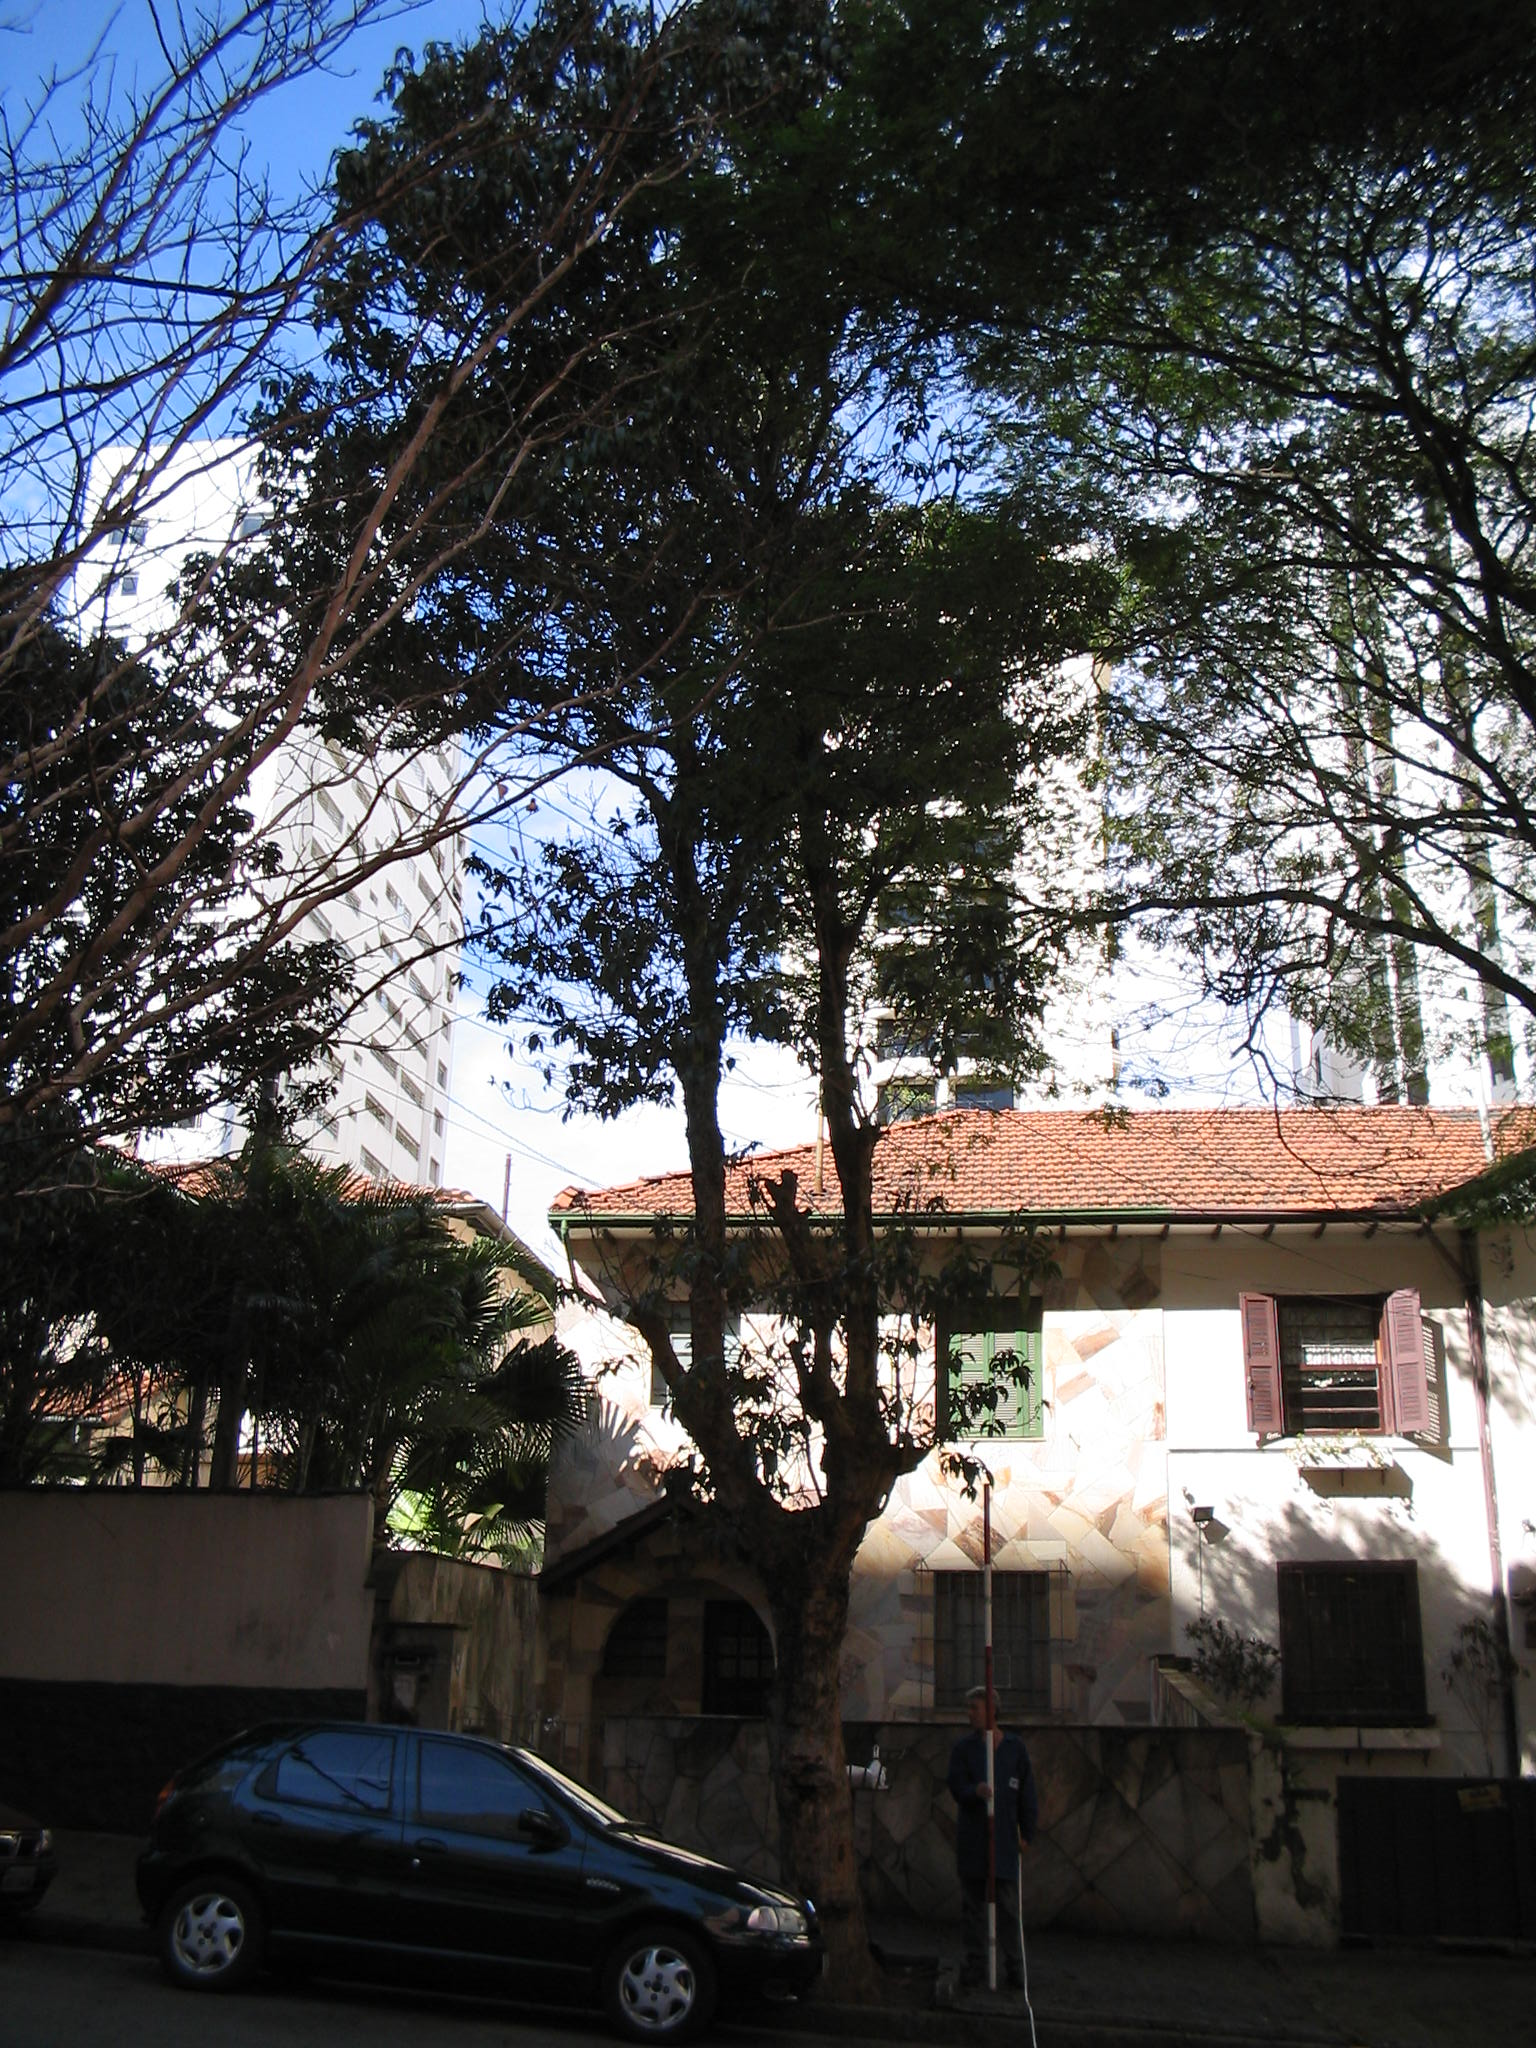stem: (720, 1595, 928, 2003)
stick: (962, 1482, 1020, 1996)
tree: (186, 16, 1204, 2008)
